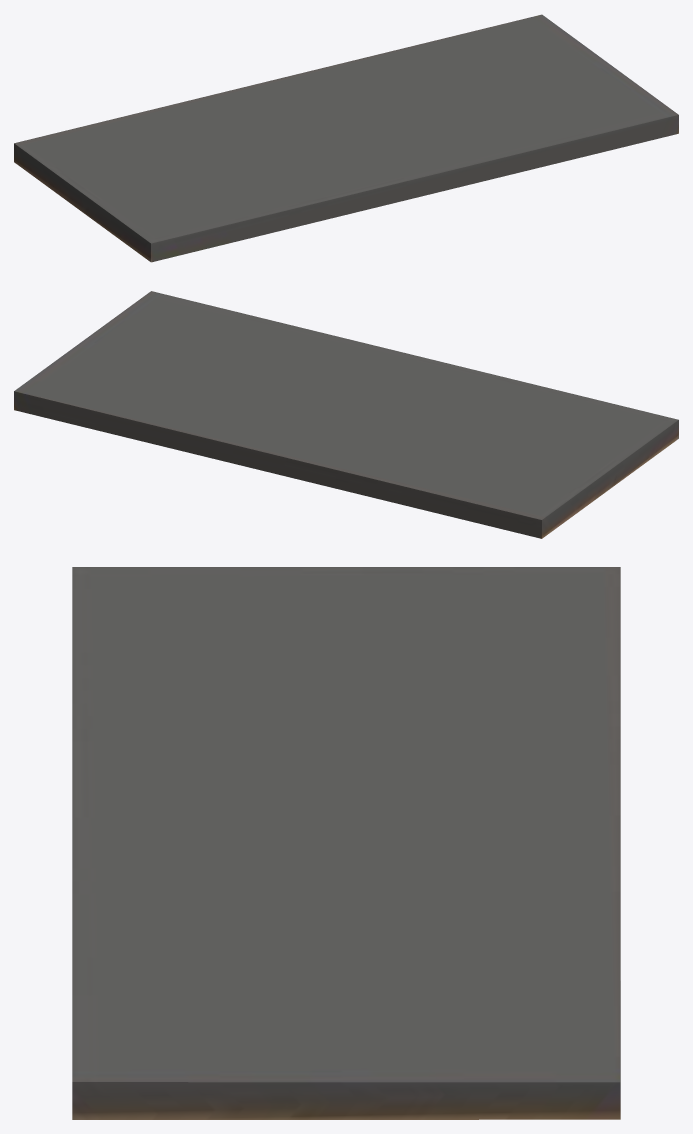
The model's file is 21 - LINNMON Table top - dark grey 100x45 cm.glb.
The picture shows the model from 3 angles, top to bottom: view 1: azimuth 30°, elevation 25°; view 2: azimuth 150°, elevation 25°; view 3: azimuth 270°, elevation 25°; orthographic projection. The views are drawn at different scales.
Visible parts, largest first — view 1: ASY_ART_10596226_S03_NV01; view 2: ASY_ART_10596226_S03_NV01; view 3: ASY_ART_10596226_S03_NV01.
Part boxes in pixels (x1=…): ASY_ART_10596226_S03_NV01: x1=14, y1=14, x2=678, y2=262; ASY_ART_10596226_S03_NV01: x1=14, y1=291, x2=678, y2=538; ASY_ART_10596226_S03_NV01: x1=72, y1=567, x2=620, y2=1119.
Bounding box in the file's own units: 0.9996 × 0.0341 × 0.4496.
Materials: 1 (1 with a texture image).
